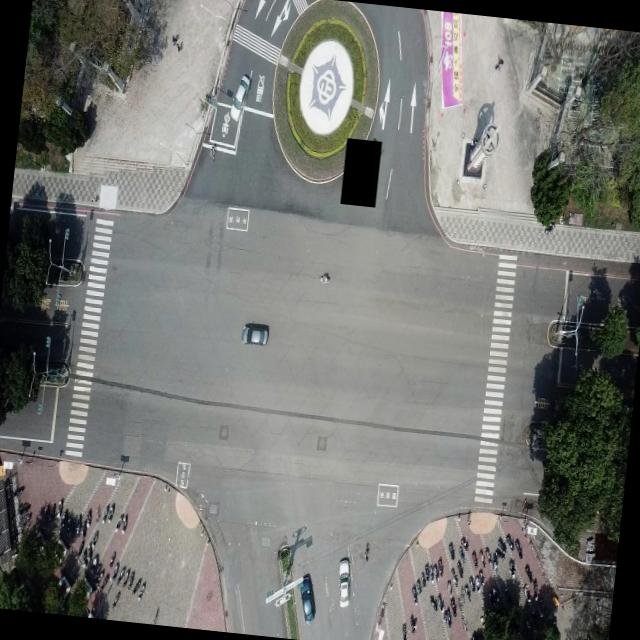bike: (522, 562, 535, 584), (475, 566, 486, 590), (410, 578, 420, 603), (441, 606, 452, 628), (514, 538, 525, 560), (468, 549, 479, 571), (491, 543, 502, 565), (456, 554, 466, 578), (434, 554, 444, 578), (91, 552, 103, 572), (110, 586, 120, 608), (408, 612, 418, 634), (420, 562, 430, 584), (82, 508, 91, 532), (506, 554, 516, 575), (446, 540, 456, 560), (434, 592, 444, 612), (446, 576, 456, 596), (458, 532, 468, 552), (504, 532, 514, 552), (522, 582, 532, 602), (57, 498, 66, 520), (124, 566, 132, 590), (89, 530, 98, 551), (467, 571, 476, 592), (115, 562, 123, 585), (106, 501, 114, 522), (108, 549, 116, 570), (138, 579, 146, 600), (114, 514, 122, 534), (481, 545, 489, 564), (399, 622, 407, 640)
car: (296, 571, 318, 621), (242, 319, 270, 347), (336, 556, 352, 602)
